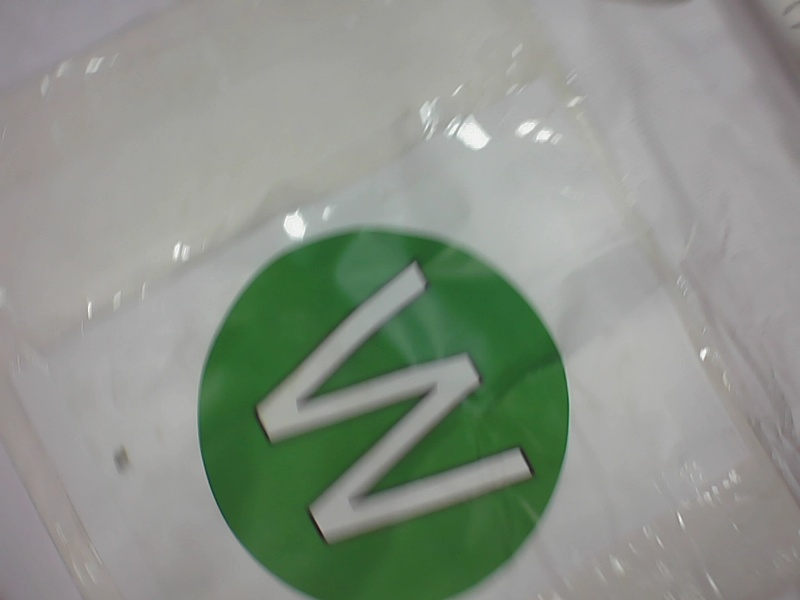areaB: (186, 222, 584, 597)
